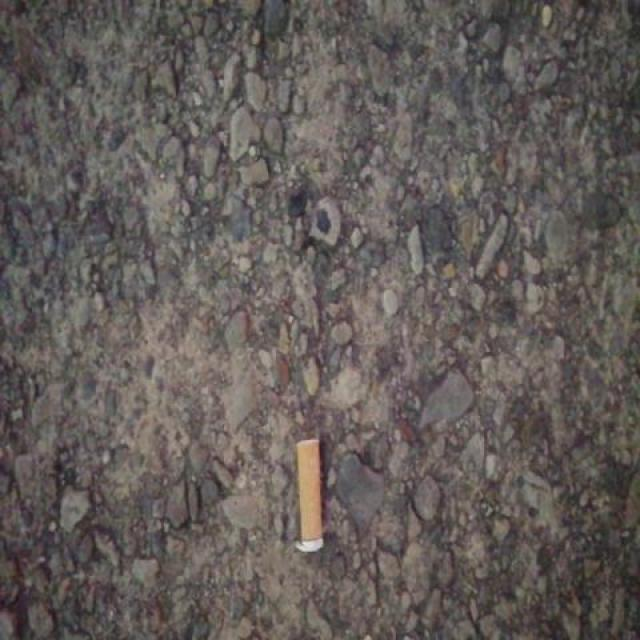non-organic waste: (291, 432, 328, 560)
